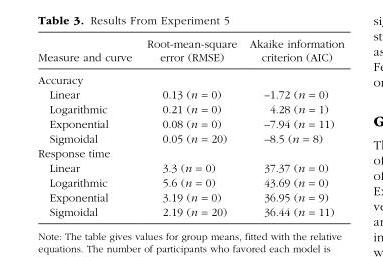table: (37, 37, 343, 217)
table column: (138, 37, 242, 217), (37, 37, 138, 217), (242, 37, 343, 217)
table column header: (37, 37, 343, 68)
table projected row header: (37, 68, 343, 85), (37, 145, 343, 159)
table row: (37, 37, 343, 68), (37, 68, 343, 85), (37, 129, 343, 145), (37, 85, 343, 100), (37, 100, 343, 115), (37, 159, 343, 174), (37, 188, 343, 203), (37, 115, 343, 129), (37, 145, 343, 159), (37, 174, 343, 188), (37, 203, 343, 217)
